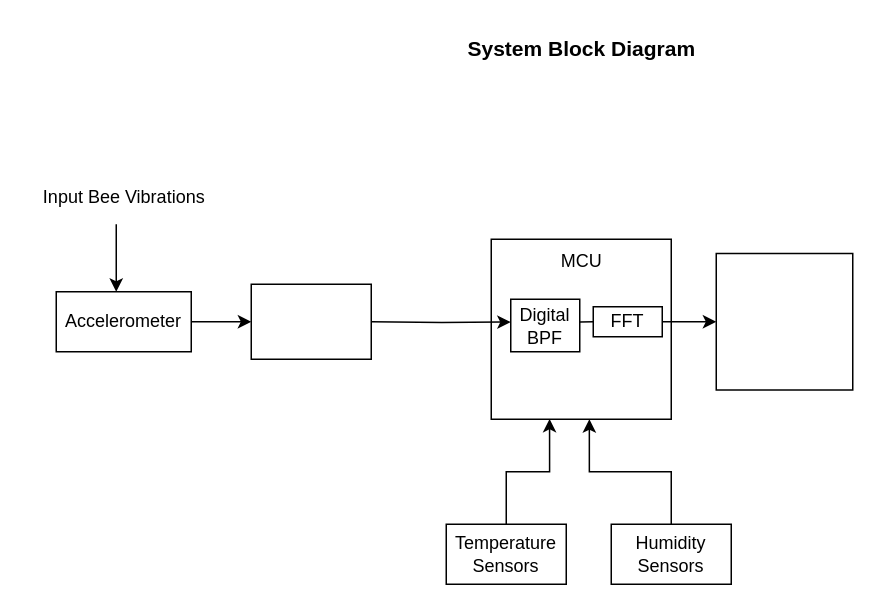
The diagram is 879 pixels wide and 611 high, and some of its shapes have lost their labels. The box of each missing label's shape, as (x1, y1, x2, y2) in pixels:
Input Anti Aliasing Filter: (250, 283, 371, 359)
MCU (WiFi capable): (715, 252, 853, 390)
